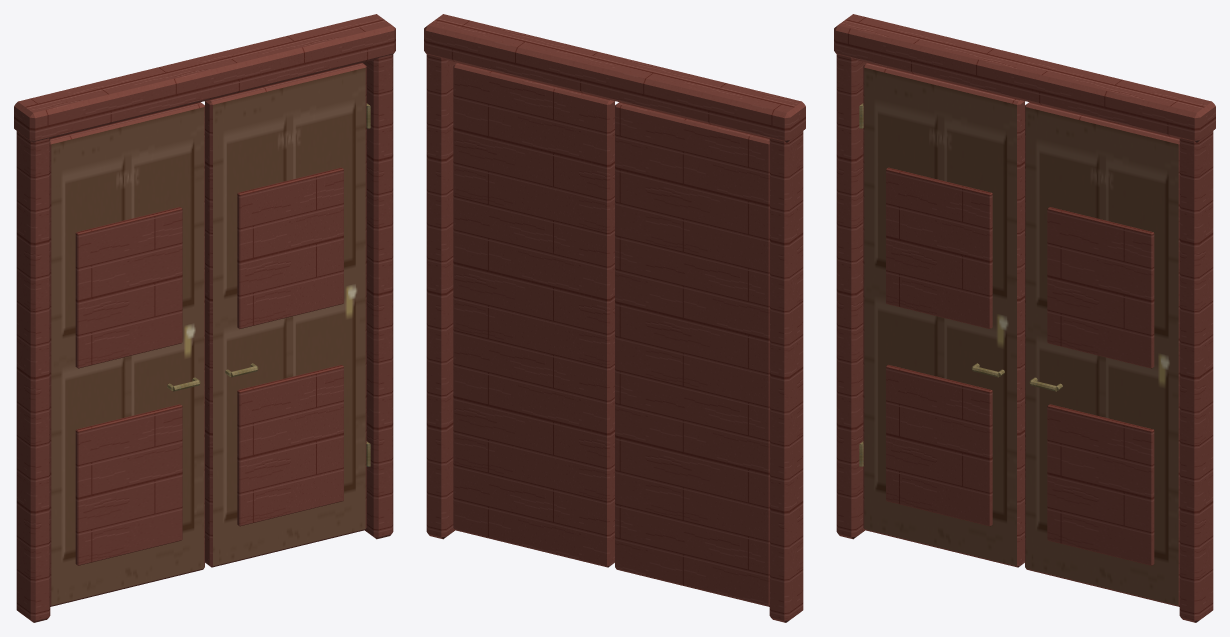
Rendered from MD_9_DoubleDoor.fbx.
3 renders of one model, left to right at view 1: azimuth 30°, elevation 25°; view 2: azimuth 150°, elevation 25°; view 3: azimuth 330°, elevation 25°, orthographic.
Visible parts, largest first — view 1: MD_9_DoubleDoor_hinged_door_leaf.001, MD_9_DoubleDoor_hinged_door_leaf, MD_9_DoubleDoor_door_crown, MD_9_DoubleDoor_door_casing, MD_9_DoubleDoor_raised_panel, MD_9_DoubleDoor_raised_panel.001, MD_9_DoubleDoor_raised_panel.003, MD_9_DoubleDoor_raised_panel.002, MD_9_DoubleDoor_door_casing.001; view 2: MD_9_DoubleDoor_hinged_door_leaf.001, MD_9_DoubleDoor_hinged_door_leaf, MD_9_DoubleDoor_door_crown, MD_9_DoubleDoor_door_casing, MD_9_DoubleDoor_door_casing.001; view 3: MD_9_DoubleDoor_hinged_door_leaf, MD_9_DoubleDoor_hinged_door_leaf.001, MD_9_DoubleDoor_door_crown, MD_9_DoubleDoor_door_casing.001, MD_9_DoubleDoor_raised_panel.002, MD_9_DoubleDoor_raised_panel.003, MD_9_DoubleDoor_raised_panel.001, MD_9_DoubleDoor_raised_panel, MD_9_DoubleDoor_door_casing.
Boxes of the visible parts, bbox=[...] form: MD_9_DoubleDoor_hinged_door_leaf.001: bbox=[205, 63, 366, 567]; MD_9_DoubleDoor_hinged_door_leaf: bbox=[50, 102, 204, 606]; MD_9_DoubleDoor_door_crown: bbox=[14, 14, 395, 142]; MD_9_DoubleDoor_door_casing: bbox=[16, 131, 50, 622]; MD_9_DoubleDoor_raised_panel: bbox=[75, 404, 182, 565]; MD_9_DoubleDoor_raised_panel.001: bbox=[75, 207, 182, 368]; MD_9_DoubleDoor_raised_panel.003: bbox=[237, 167, 343, 328]; MD_9_DoubleDoor_raised_panel.002: bbox=[237, 365, 343, 526]; MD_9_DoubleDoor_door_casing.001: bbox=[362, 54, 393, 539]; MD_9_DoubleDoor_hinged_door_leaf.001: bbox=[453, 63, 614, 567]; MD_9_DoubleDoor_hinged_door_leaf: bbox=[615, 102, 769, 606]; MD_9_DoubleDoor_door_crown: bbox=[424, 14, 805, 142]; MD_9_DoubleDoor_door_casing: bbox=[769, 131, 803, 622]; MD_9_DoubleDoor_door_casing.001: bbox=[426, 54, 457, 539]; MD_9_DoubleDoor_hinged_door_leaf: bbox=[863, 63, 1024, 567]; MD_9_DoubleDoor_hinged_door_leaf.001: bbox=[1025, 102, 1179, 606]; MD_9_DoubleDoor_door_crown: bbox=[834, 14, 1215, 142]; MD_9_DoubleDoor_door_casing.001: bbox=[1179, 131, 1213, 622]; MD_9_DoubleDoor_raised_panel.002: bbox=[1047, 404, 1154, 565]; MD_9_DoubleDoor_raised_panel.003: bbox=[1047, 207, 1154, 368]; MD_9_DoubleDoor_raised_panel.001: bbox=[886, 167, 992, 328]; MD_9_DoubleDoor_raised_panel: bbox=[886, 365, 992, 526]; MD_9_DoubleDoor_door_casing: bbox=[836, 54, 867, 539].
Bounding box in the file's own units: 2.04 × 2.72 × 0.204.
3 materials, 3 textured.
